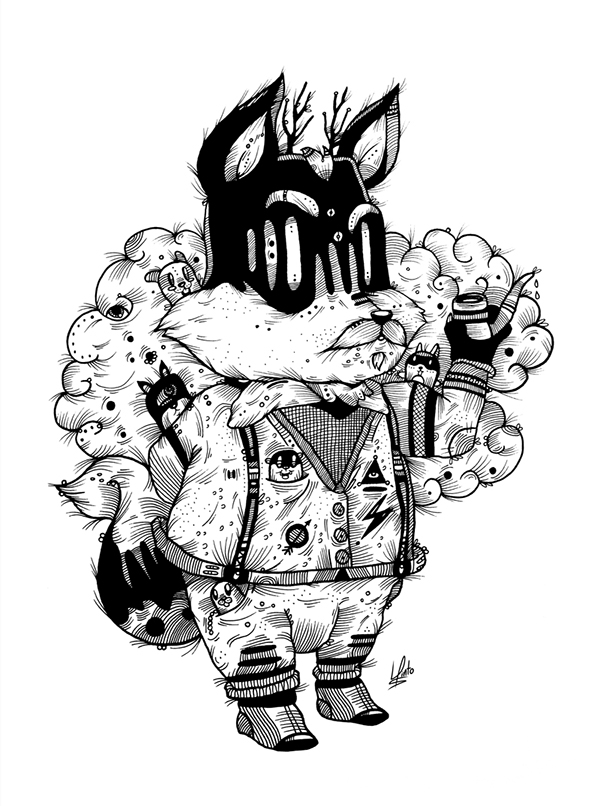dog: (48, 58, 546, 756)
